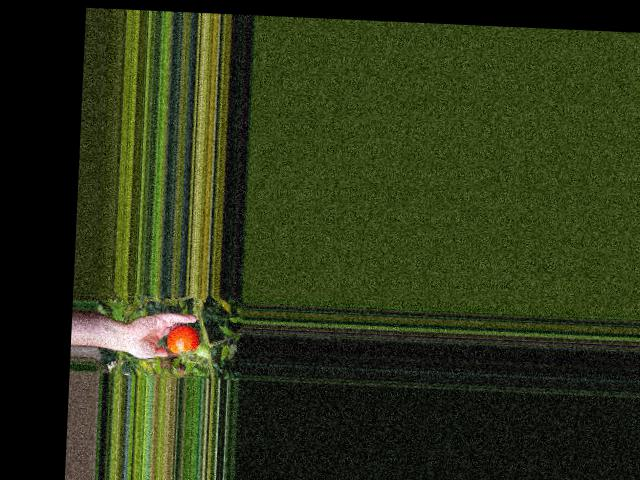tomato: (165, 324, 200, 355)
